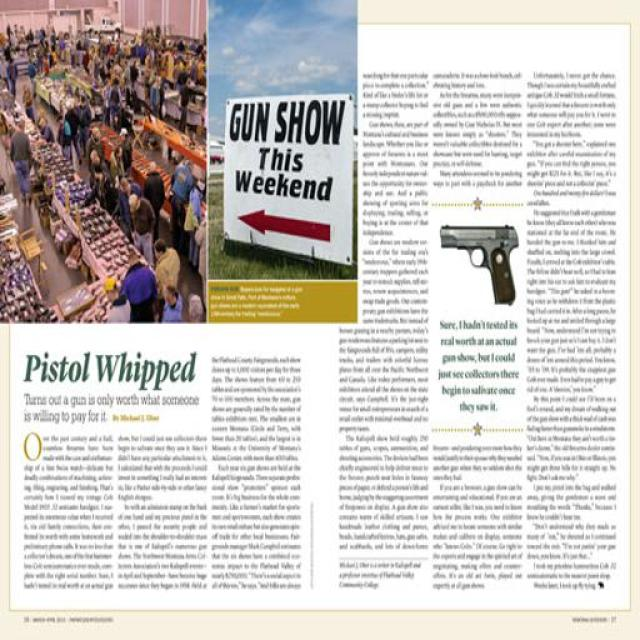pistol: (437, 222, 516, 310)
